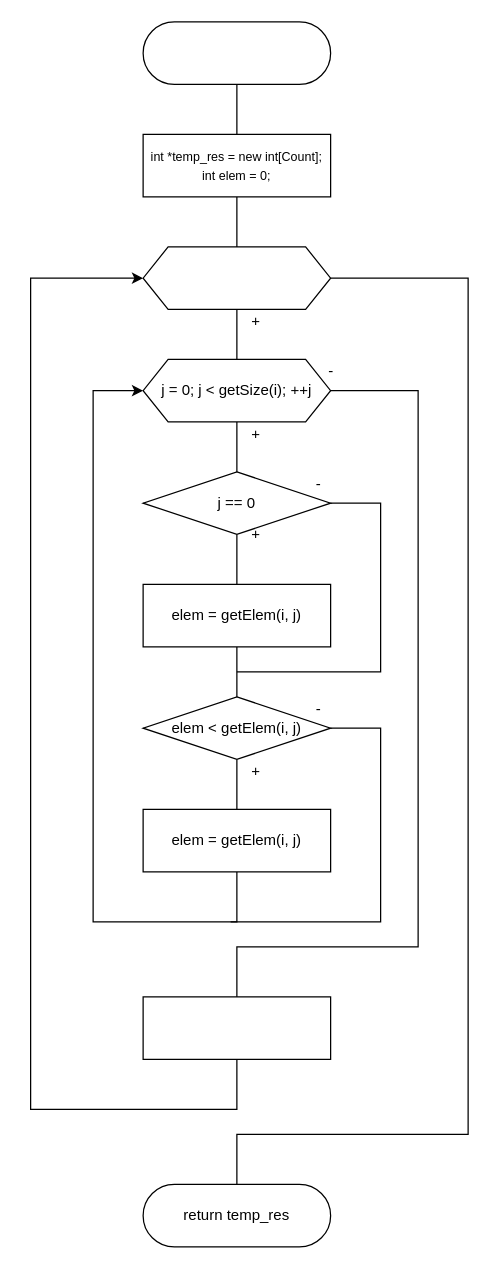
Image size: 491x1269. Some labels were removed from this diagram. Here are the shapes that lost their labels. From the top down, the centre of each, then its label:
At point 236,52: "FindMinElem()".
At point 236,277: "i = 0; i < Count; ++i".
At point 236,1027: "temp_res[i] = elem;".
